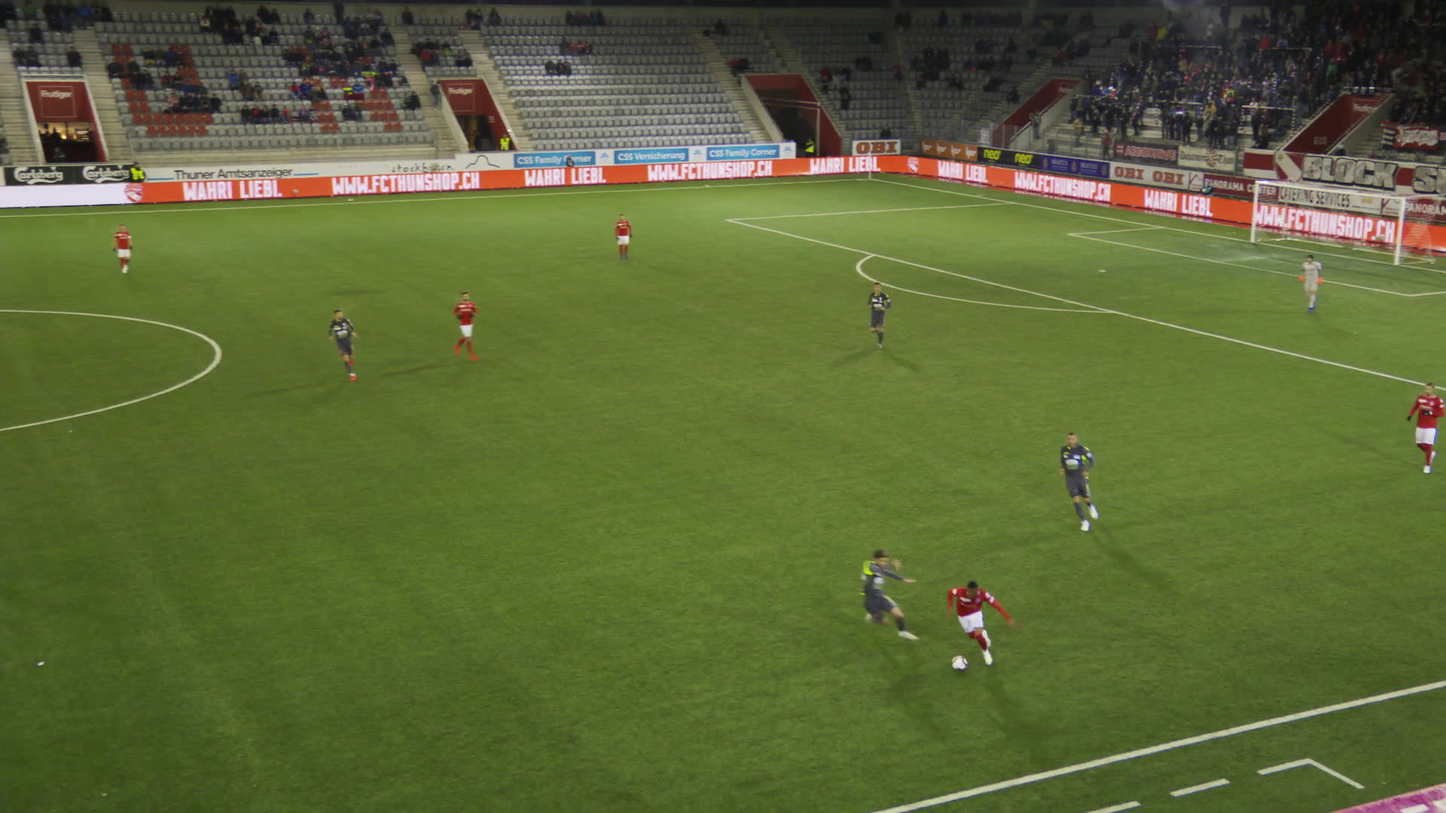ball: (952, 654, 969, 669)
player: (854, 548, 920, 644), (943, 580, 1001, 662), (1057, 430, 1103, 527), (1404, 380, 1443, 472), (325, 309, 362, 380), (450, 291, 480, 361), (865, 279, 892, 349), (1298, 253, 1323, 312), (111, 223, 134, 273), (613, 213, 633, 261)
